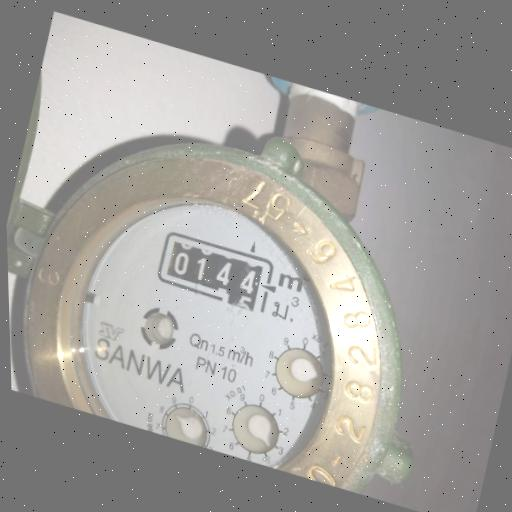0: (165, 239, 198, 281)
1: (186, 245, 217, 287)
4: (226, 257, 265, 311), (206, 252, 238, 294)
border_water_meter_number: (153, 226, 277, 314)
